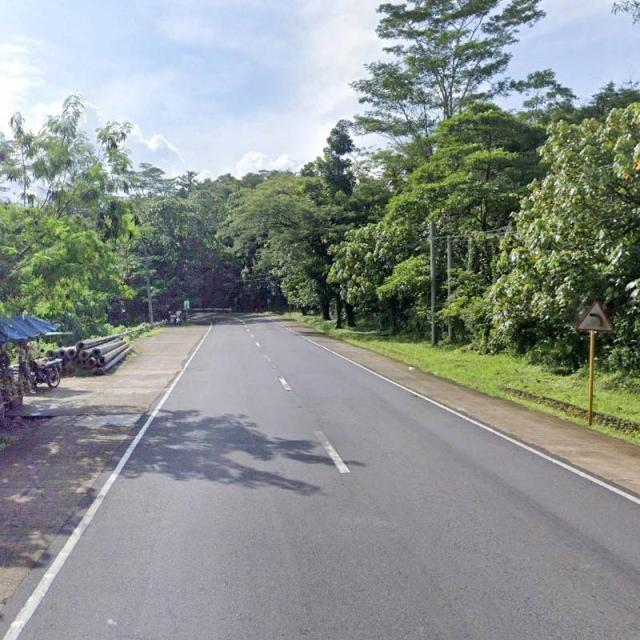warn_left_curve: (577, 300, 614, 330)
